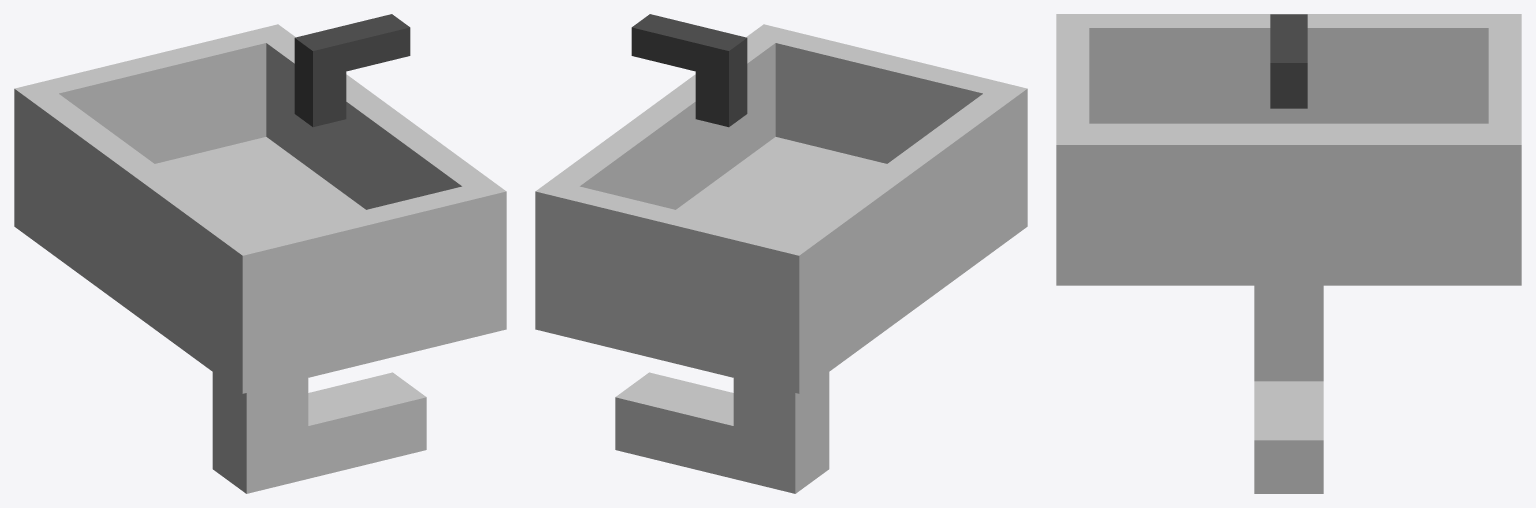
The model's file is sink.FBX.
The picture shows the model from 3 angles, left to right: view 1: azimuth 30°, elevation 25°; view 2: azimuth 150°, elevation 25°; view 3: azimuth 270°, elevation 25°; orthographic projection.
Visible parts, largest first — view 1: sink; view 2: sink; view 3: sink.
Boxes of the visible parts, box(x1,y1,x2,y2) form: sink: box(14, 14, 506, 493); sink: box(535, 14, 1027, 493); sink: box(1056, 14, 1521, 493).
Bounding box in the file's own units: 7.33 × 10.44 × 10.32.
